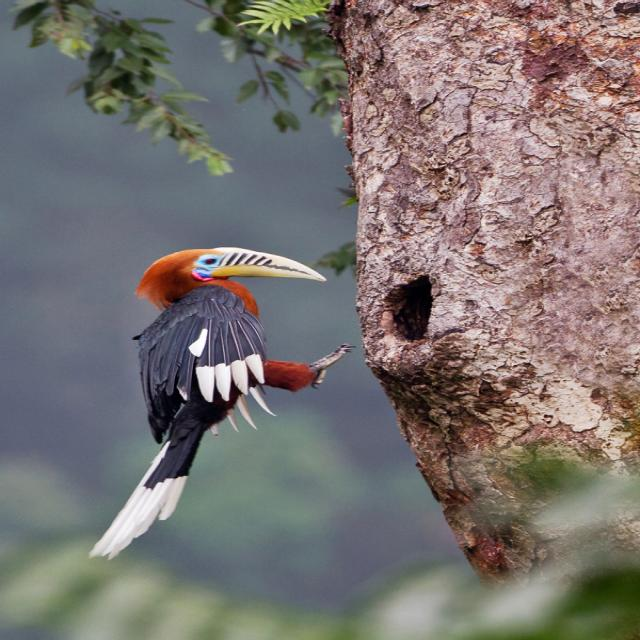Hornbill: (94, 247, 356, 570)
